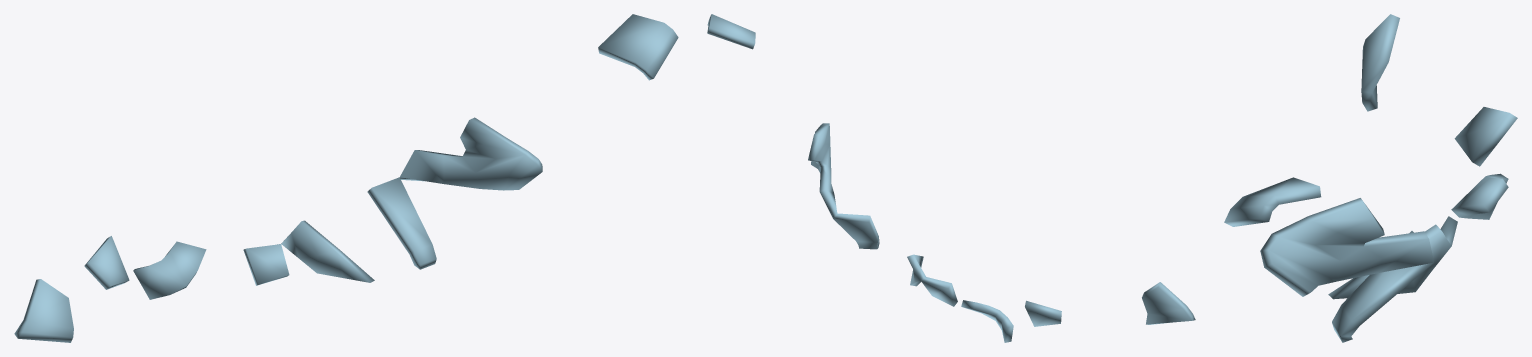
The model's file is articulacoes-palmar-carpometacarpal-ligaments-l.glb.
3 renders of one model, left to right at view 1: azimuth 30°, elevation 25°; view 2: azimuth 150°, elevation 25°; view 3: azimuth 270°, elevation 25°, orthographic. The views are drawn at different scales.
Visible parts, largest first — view 1: Palmar carpometacarpal ligaments.l; view 2: Palmar carpometacarpal ligaments.l; view 3: Palmar carpometacarpal ligaments.l.
Boxes of the visible parts, x1,y1,x2,y2 form: Palmar carpometacarpal ligaments.l: (14,14,678,342); Palmar carpometacarpal ligaments.l: (707,14,1195,342); Palmar carpometacarpal ligaments.l: (1224,14,1517,342).
Size of the model in its own units: 0.0429 by 0.0151 by 0.0132.
